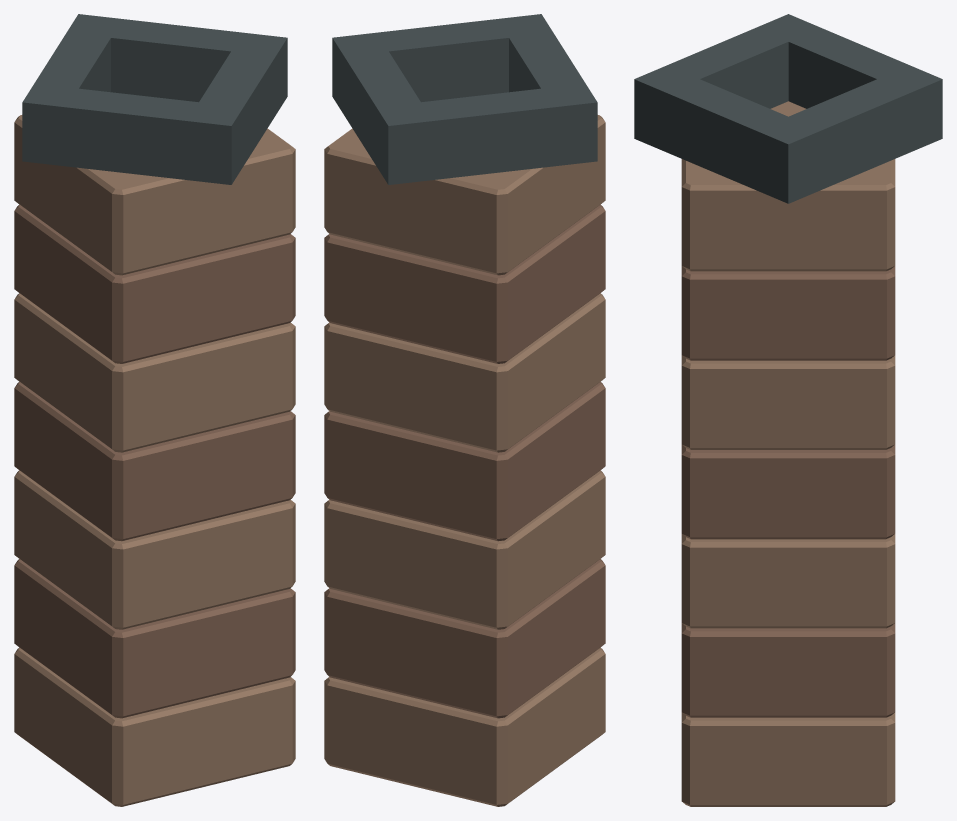
File: chimney.glb
The picture shows the model from 3 angles, left to right: view 1: azimuth 30°, elevation 25°; view 2: azimuth 150°, elevation 25°; view 3: azimuth 270°, elevation 25°; orthographic projection.
Parts seen in each view (by area): view 1: chimney__body; view 2: chimney__body; view 3: chimney__body.
Boxes of the visible parts, box(x1,y1,x2,y2) form: chimney__body: box(14, 14, 295, 806); chimney__body: box(324, 14, 605, 806); chimney__body: box(634, 14, 942, 806).
Bounding box in the file's own units: 0.94 × 2.3 × 0.94.
